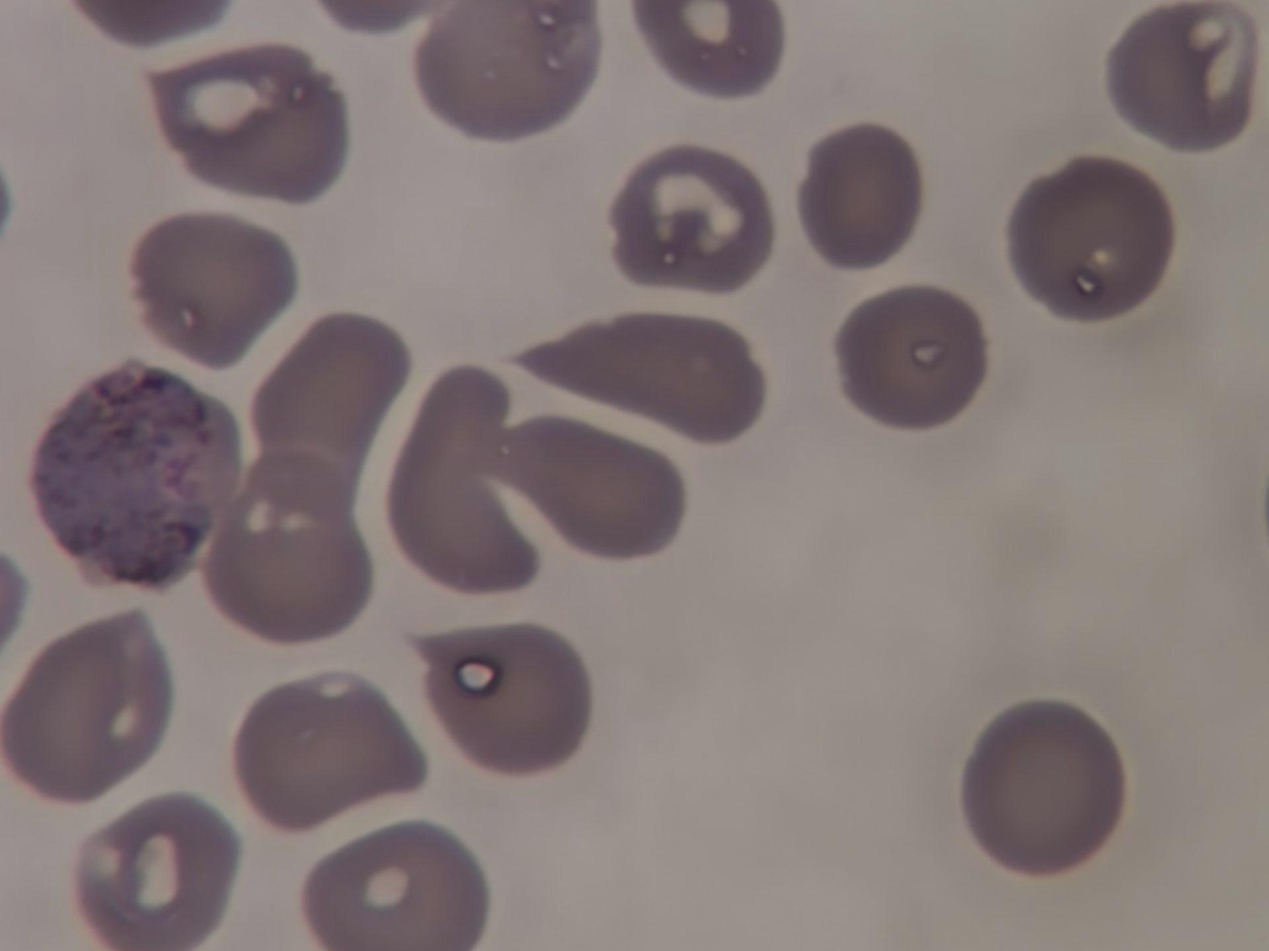Infected: (1024, 364, 1236, 584)
Uninfected: (727, 357, 882, 583), (501, 504, 757, 640), (892, 309, 1069, 500), (919, 747, 1124, 905), (1099, 149, 1265, 343), (841, 119, 1034, 280), (582, 394, 801, 535), (145, 70, 312, 250), (676, 174, 865, 327), (856, 463, 1017, 636), (664, 807, 854, 951), (94, 628, 258, 793), (1026, 0, 1195, 156), (972, 582, 1137, 738), (494, 651, 657, 806), (777, 0, 968, 132), (279, 519, 434, 662), (15, 797, 165, 941), (345, 679, 471, 826), (488, 852, 641, 951)
